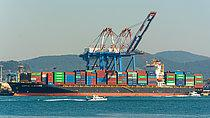Ship: (7, 57, 206, 100)
